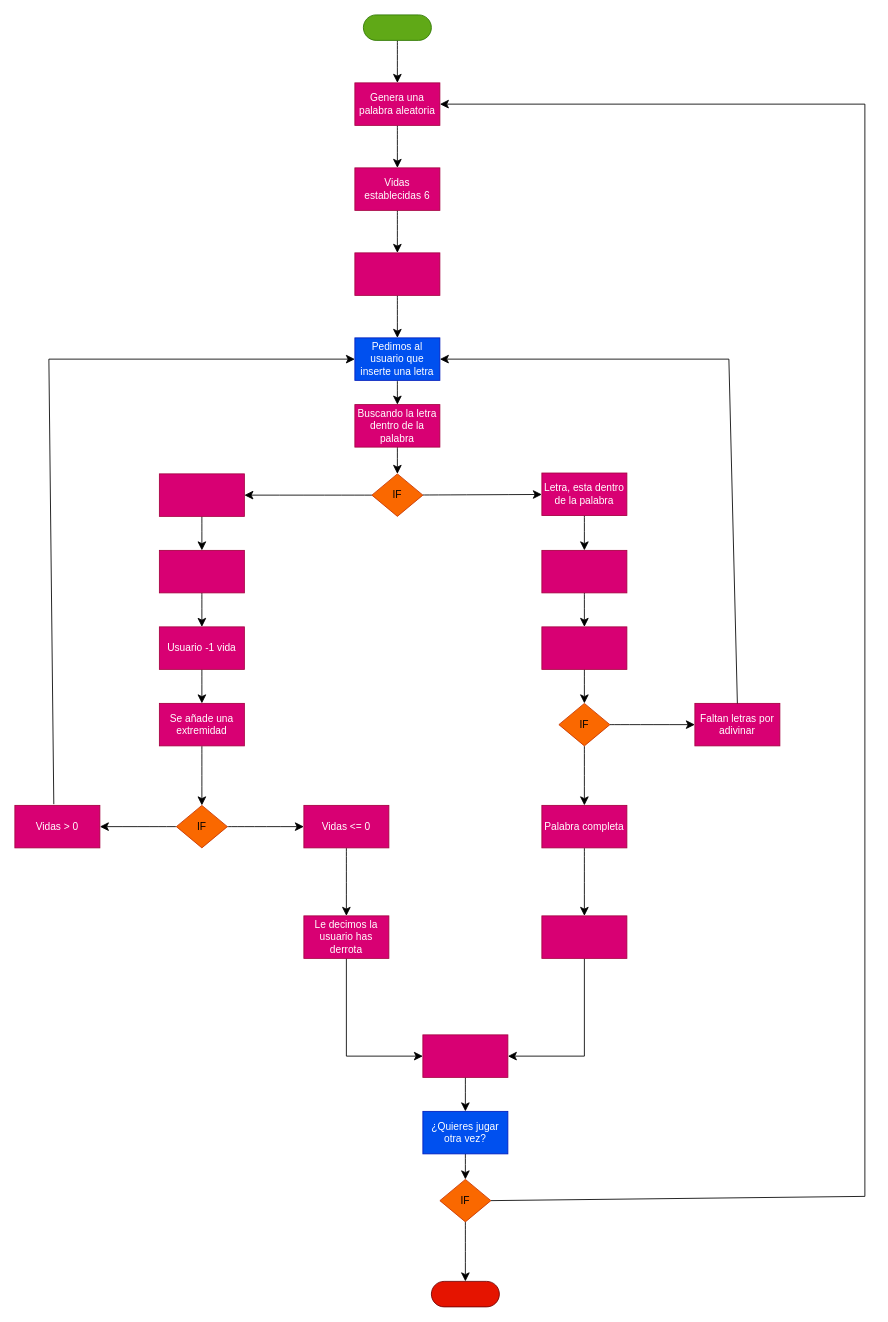
This 888x1322 diagram has some shape labels left out. The centre of each missing label's shape, as x and y in pixels:
Añadimos esa letra al historial de letras malas: pixel 201 571
Eliminamos la palabra: pixel 465 1055
Enseñamos al usuario las letras correctas acertadas: pixel 584 647
Establecemos historial "letras malas" y "letras buenas" en 0: pixel 397 273
FIN: pixel 465 1294
Inicio: pixel 397 27
Le decimos al usuario, has ganado: pixel 584 936
Letra, no esta dentro de la palabra: pixel 201 494
Metemos la letra correcta al historial letras correctas: pixel 584 571
